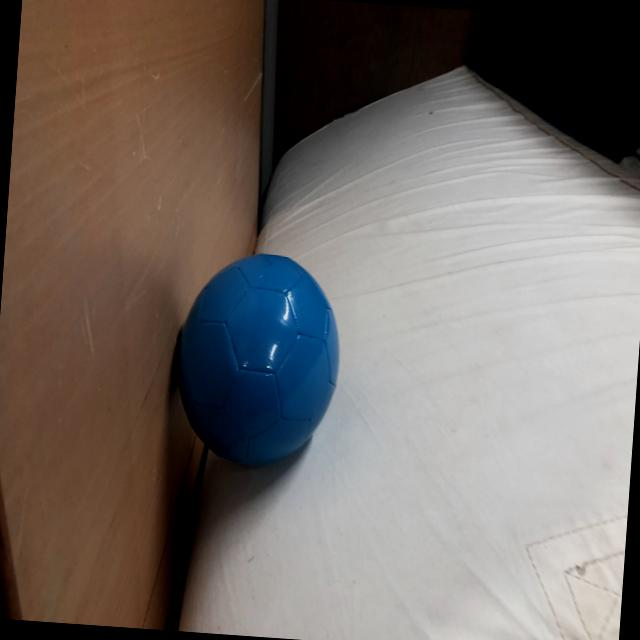blue_ball: (171, 248, 349, 484)
